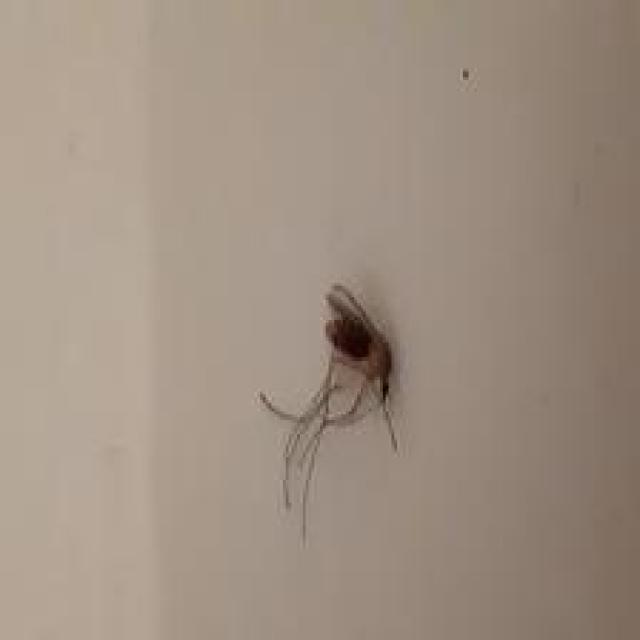Culex: (256, 282, 401, 547)
